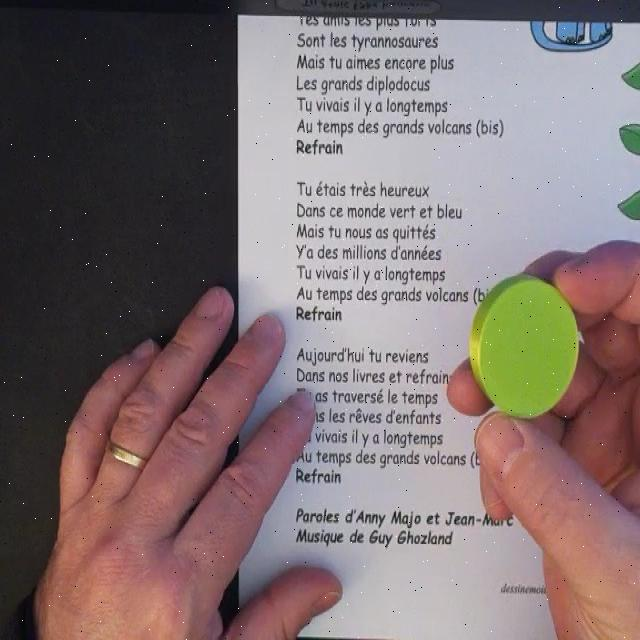round: (469, 273, 580, 420)
